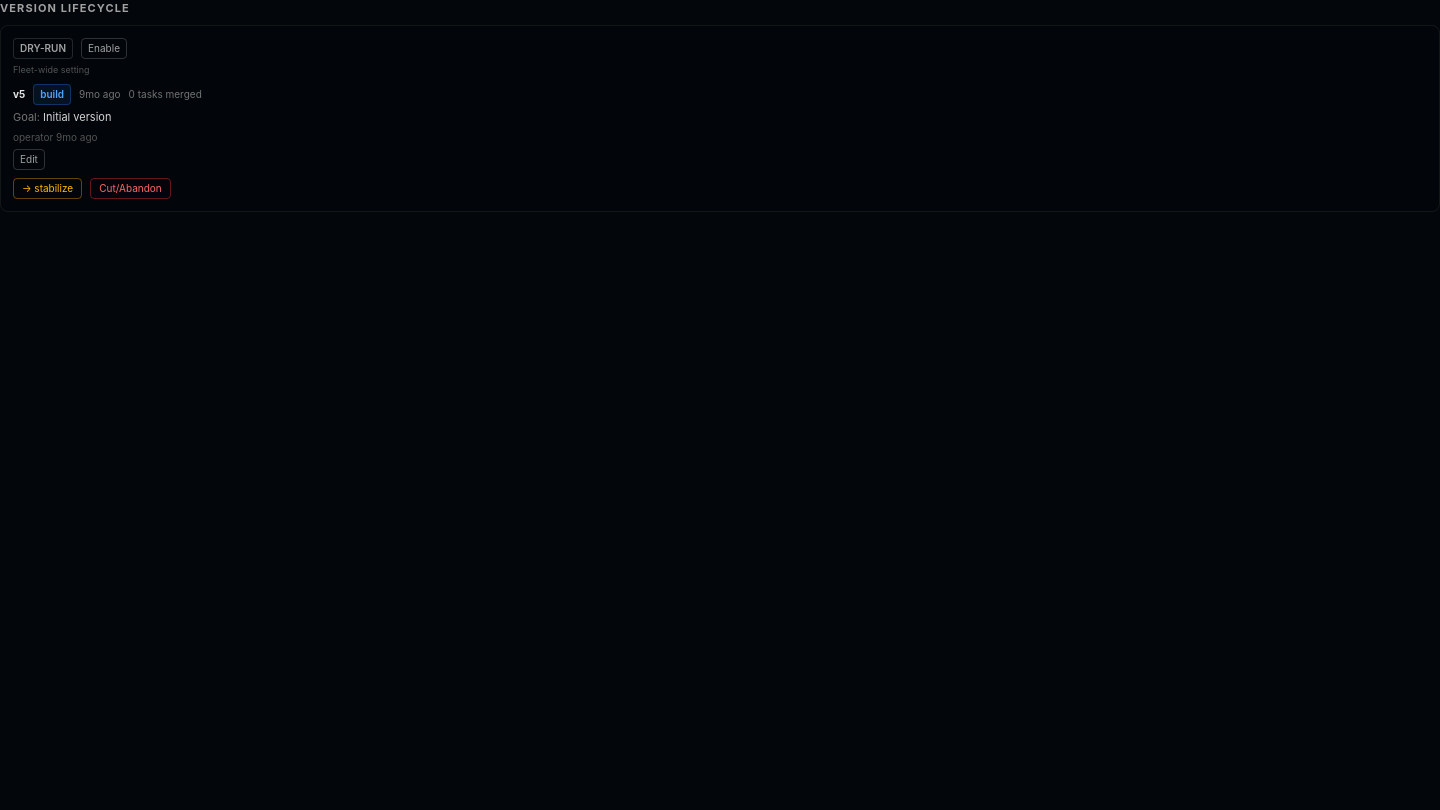
Test: VersionLifecyclePanel › cut/abandon version › shows action message on successful cut version
This screenshot has width=1440, height=810.
Click the button "Cut/Abandon" at (130, 188), box x1=90 y1=178 x2=171 y2=198
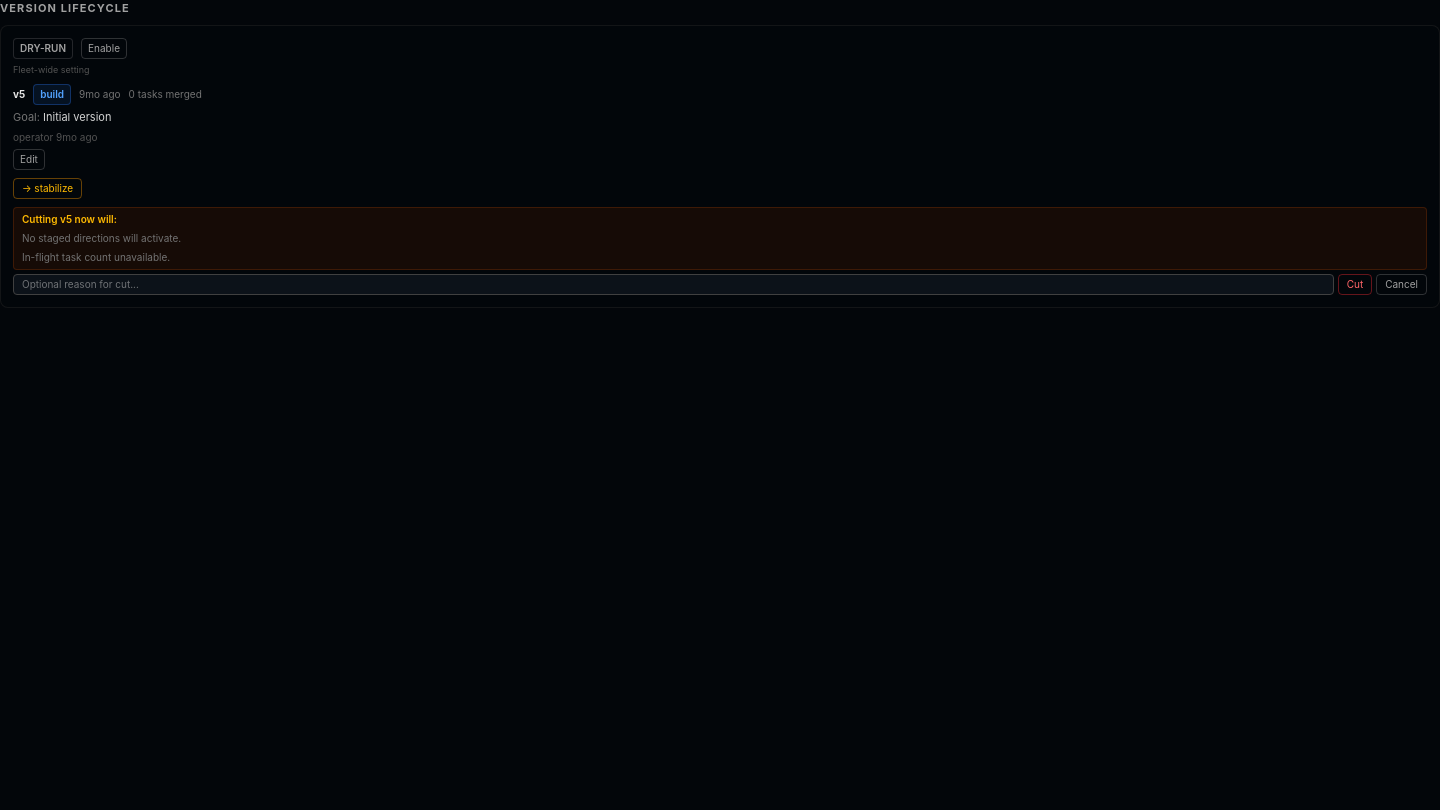
Click the button "Cut" at (1355, 284), box x1=1338 y1=274 x2=1372 y2=294
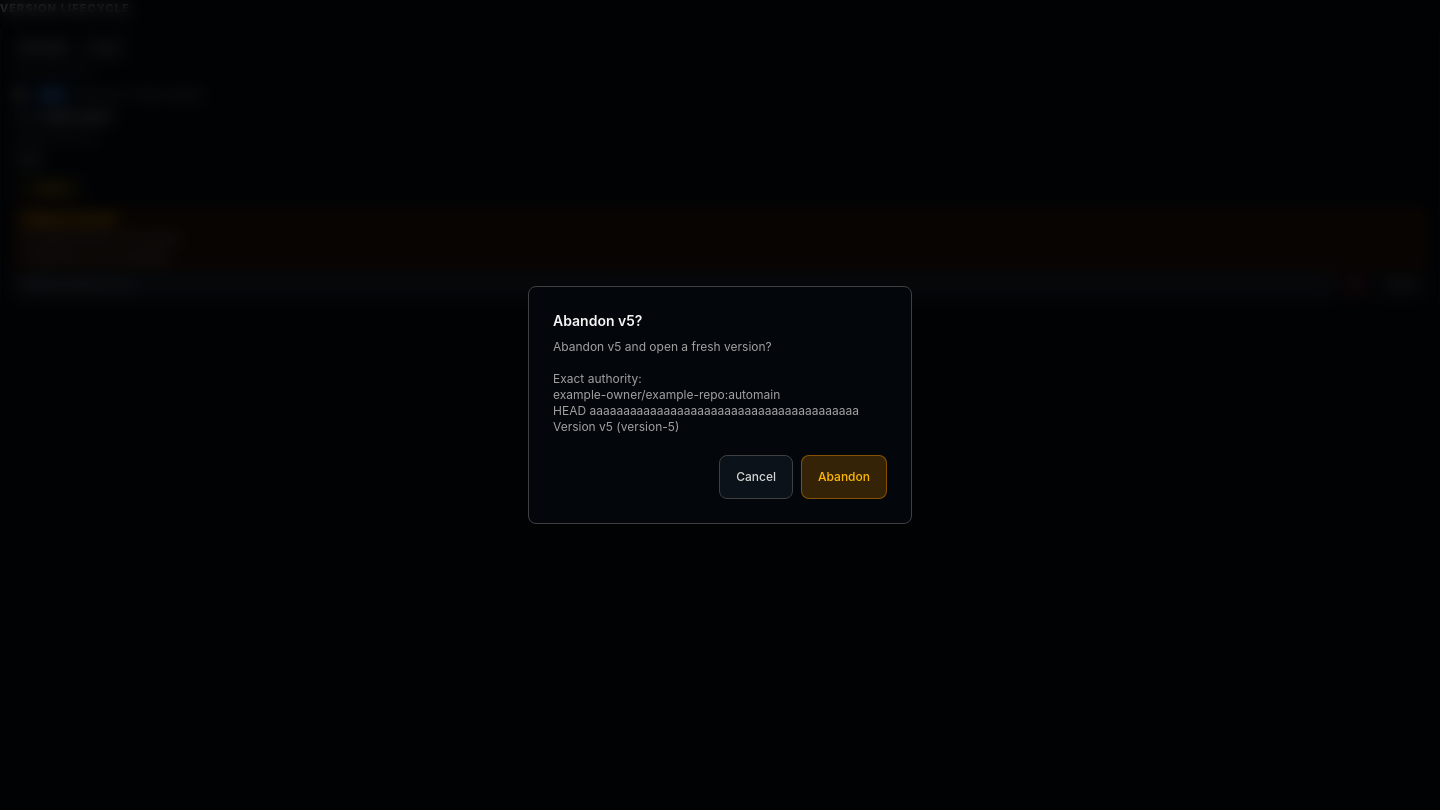
Check: the button with test id "confirm-dialog-confirm" is shown
Click the button with test id "confirm-dialog-confirm" at (844, 477), box x1=801 y1=455 x2=887 y2=499
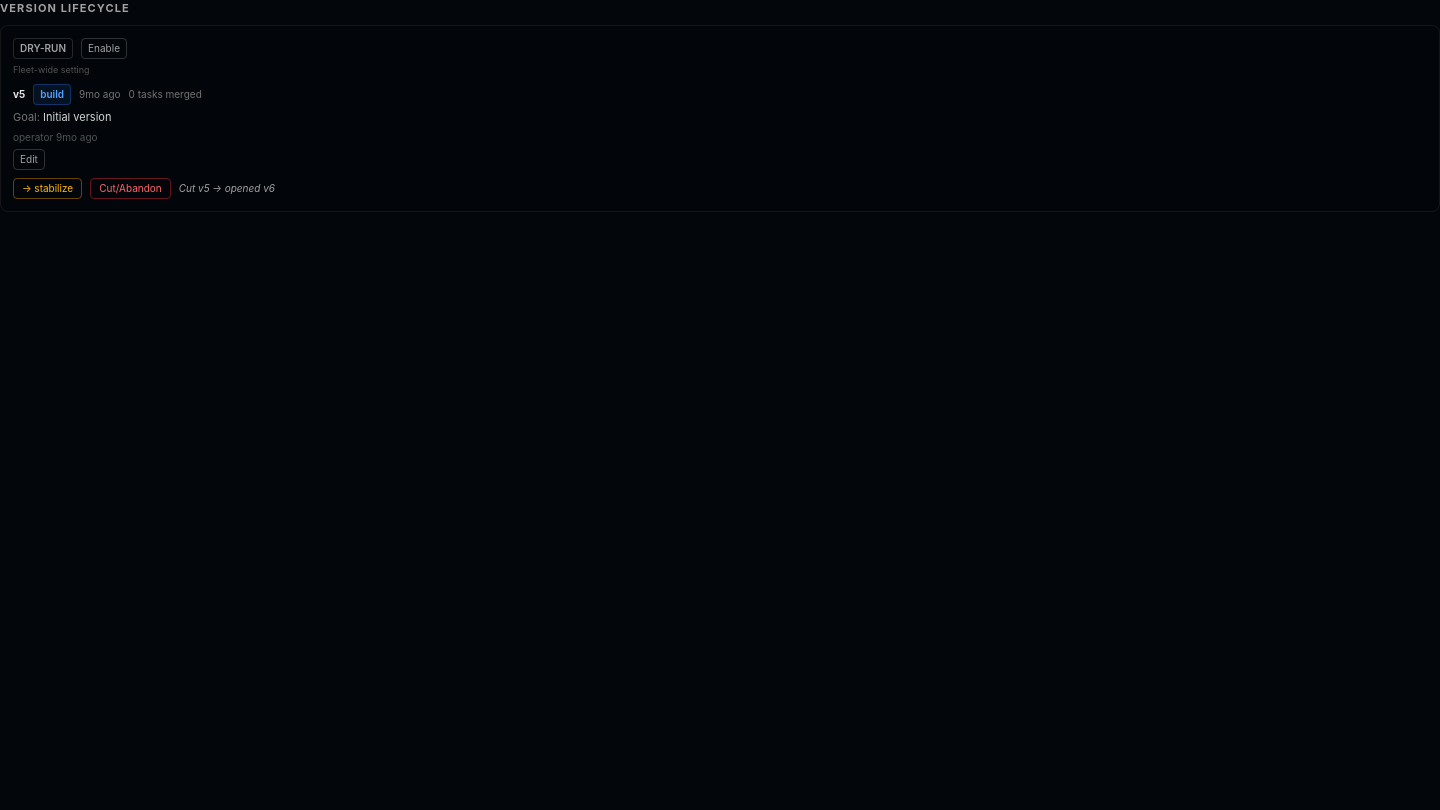
Check: the text "Cut v5 → opened v6" is shown, box x1=179 y1=180 x2=275 y2=196
